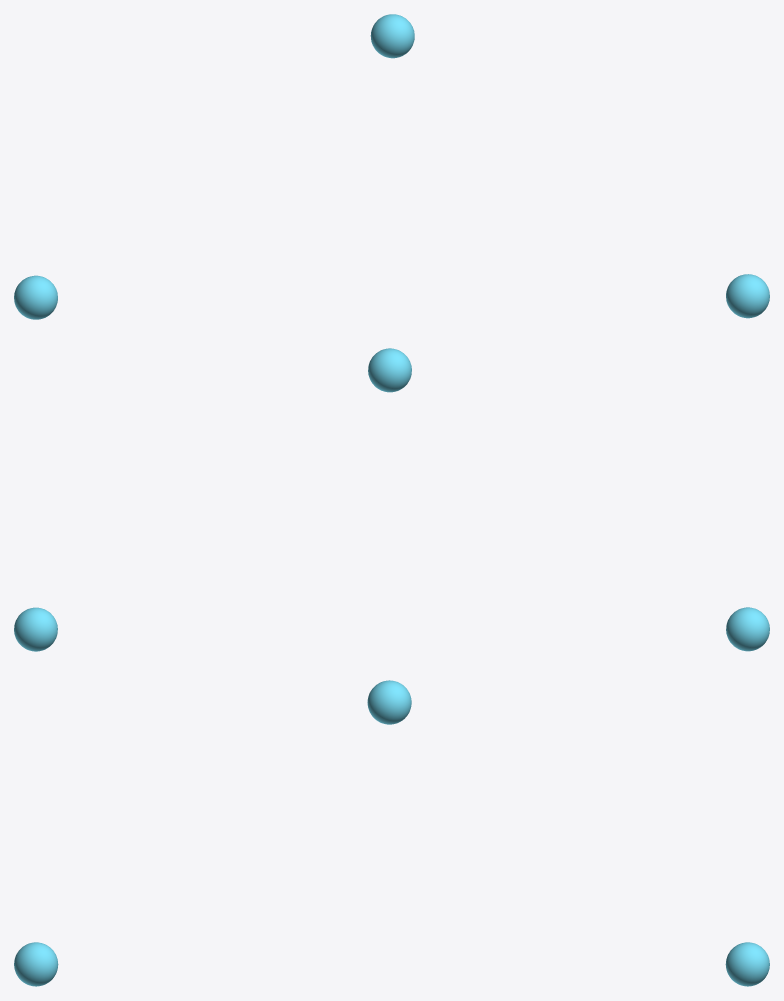
The picture shows the model from 3 angles, top to bottom: view 1: azimuth 30°, elevation 25°; view 2: azimuth 150°, elevation 25°; view 3: azimuth 270°, elevation 25°; orthographic projection.
Parts seen in each view (by area): view 1: Sphere049; view 2: Sphere049; view 3: Sphere049.
Part boxes in pixels (x1,y1,x2,y2): Sphere049: (14,14,769,319); Sphere049: (14,348,769,651); Sphere049: (14,680,769,986).
Size of the model in its own units: 123 by 8.22 by 140.
